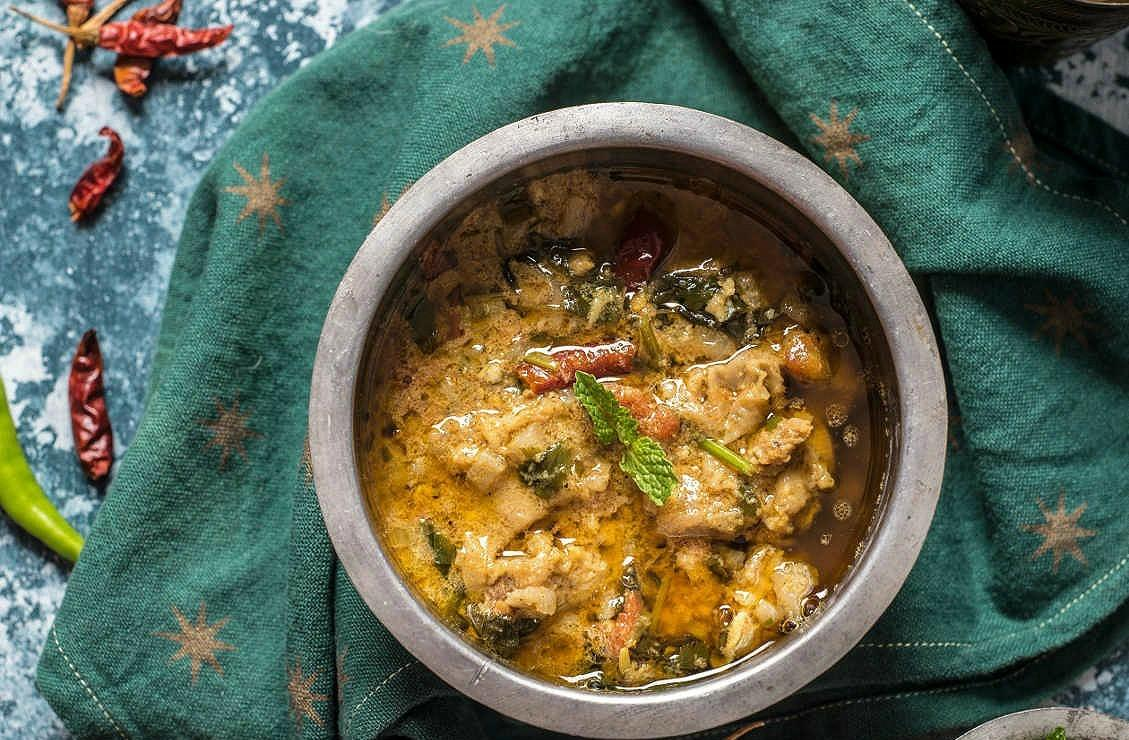MuttonCurry: (358, 169, 879, 689)
